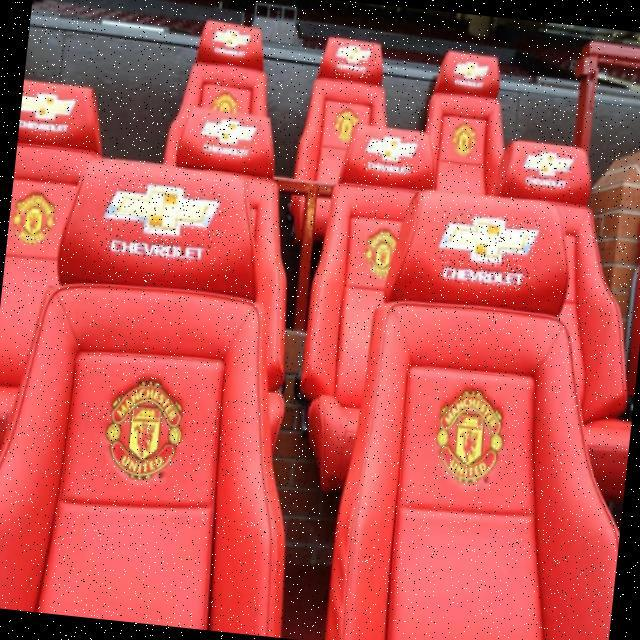Chevrolet: (99, 180, 222, 264), (437, 210, 539, 292), (18, 86, 79, 138), (197, 113, 259, 160), (362, 131, 418, 178), (522, 149, 576, 194), (211, 23, 250, 62), (333, 40, 373, 78), (451, 57, 492, 94)
